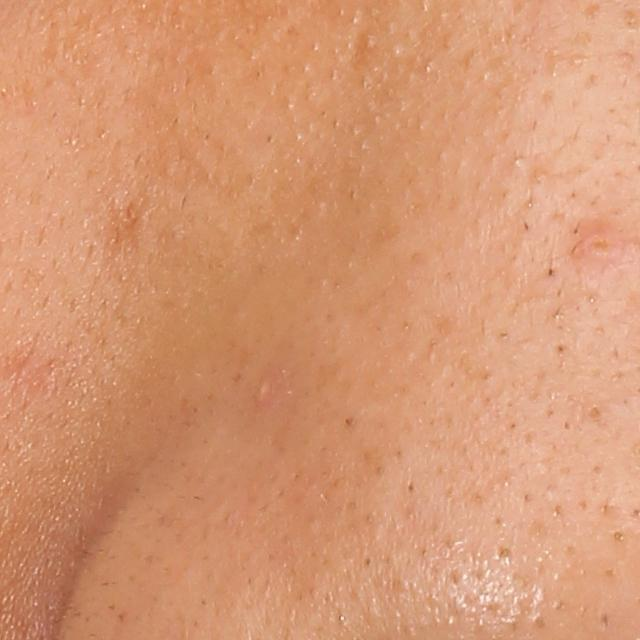comedo: (486, 541, 514, 566), (610, 527, 626, 545)
